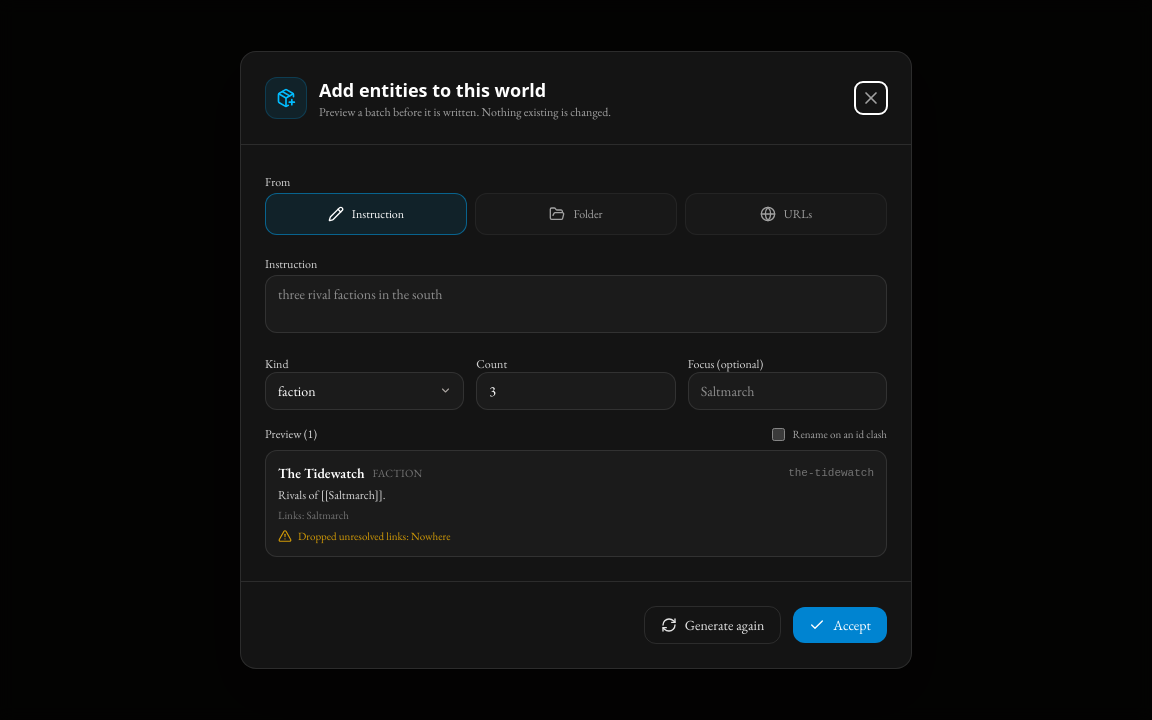
Scenario: EntityBatchDialog › previews a batch and accepts it
The width and height of the screenshot is (1152, 720).
Expected: the text "The Tidewatch" is shown, x1=278 y1=463 x2=365 y2=483
Expected: the text "Links: Saltmarch" is shown, x1=278 y1=508 x2=349 y2=522
Click the button "Accept".
click(840, 625)  # box x1=793 y1=607 x2=887 y2=643
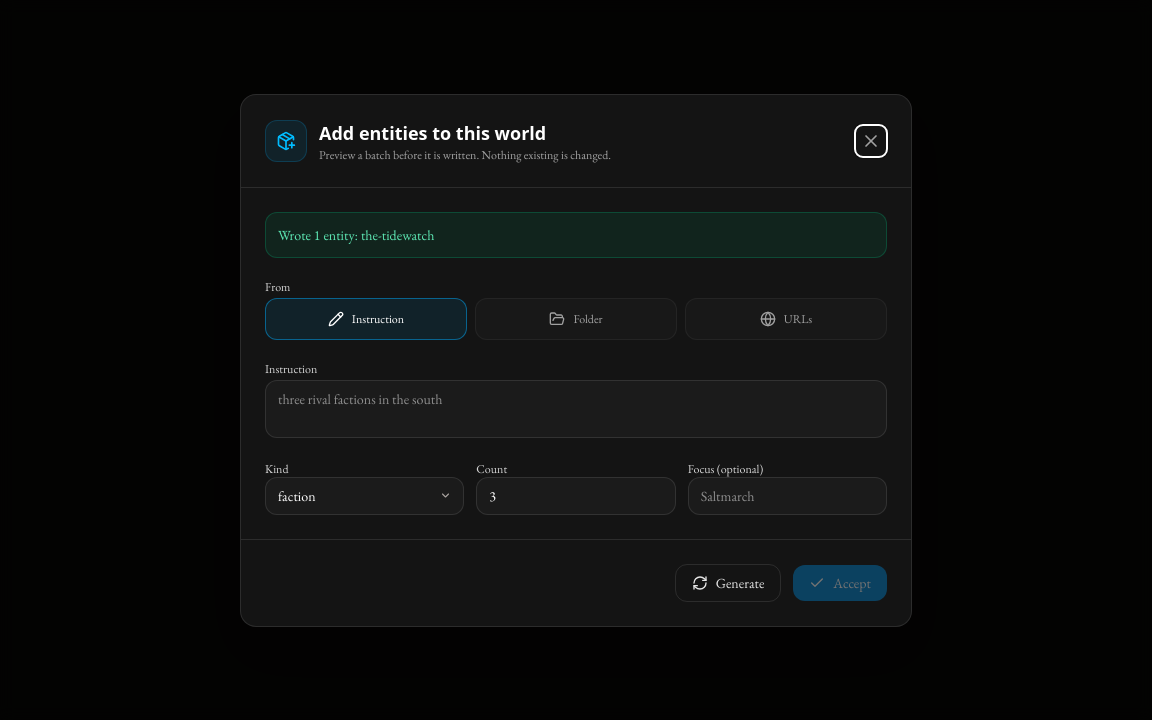
Now the text "Wrote 1 entity: the-tidewatch" is shown, box x1=265 y1=212 x2=887 y2=258
